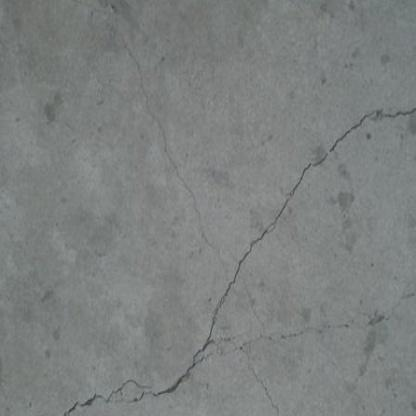Cracks: (29, 0, 282, 334), (188, 88, 416, 241), (159, 188, 388, 325), (0, 329, 301, 416), (206, 266, 416, 361)
